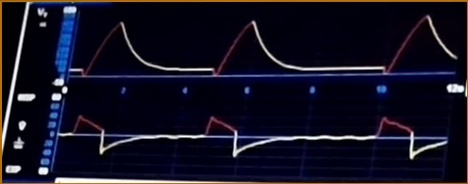Flow: (64, 109, 447, 173)
Leakage Volume: (76, 9, 456, 83)
